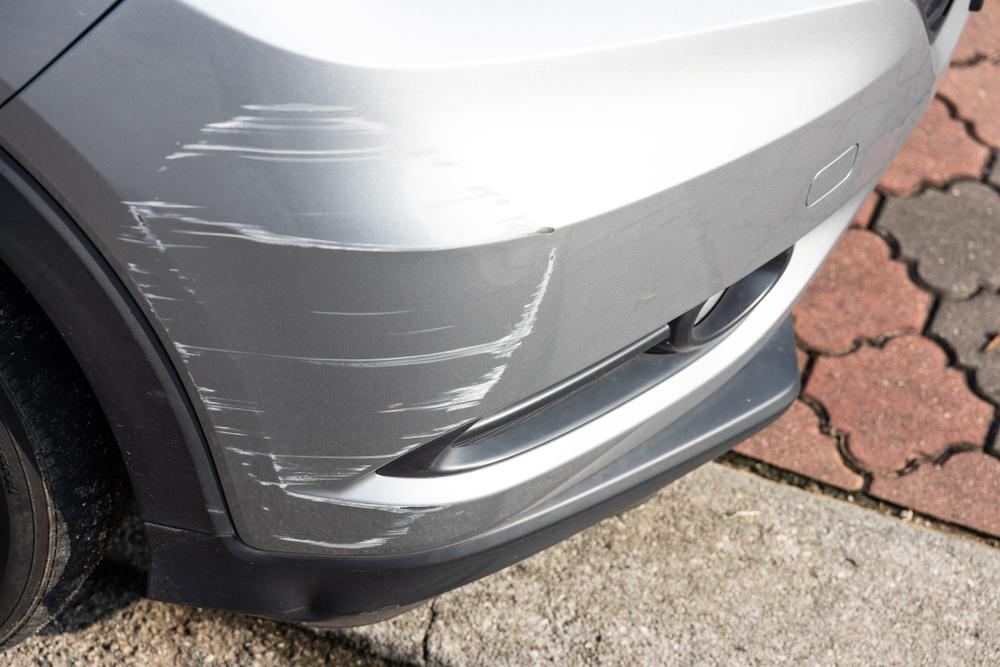scratch: (113, 100, 561, 550)
